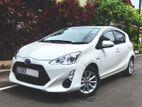car: (9, 25, 135, 96)
